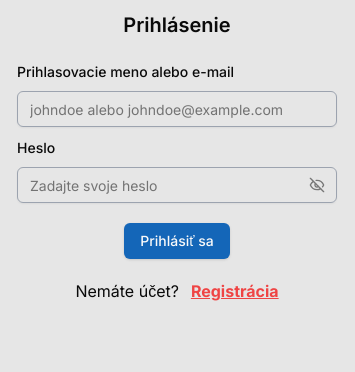
Test: FormLogin › shows validation errors for empty inputs
The width and height of the screenshot is (355, 372).
Step 1. Click the button "Prihlásiť sa" → (177, 241), box [124,223,230,259]
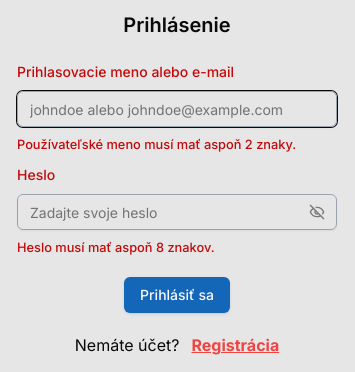
Now the text "Používateľské meno musí mať aspoň 2 znaky." is shown, box [17,135,337,154]
Now the text "Heslo musí mať aspoň 8 znakov." is shown, box [17,240,215,255]
